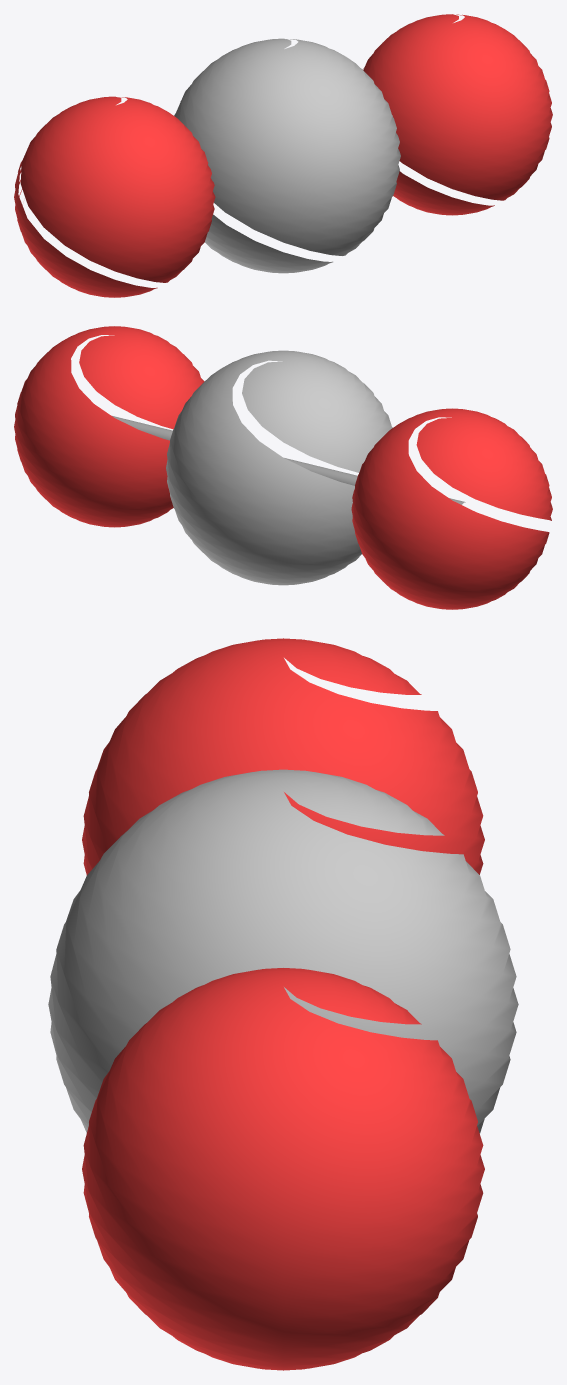
3 views of the same model, one above another, from view 1: azimuth 30°, elevation 25°; view 2: azimuth 150°, elevation 25°; view 3: azimuth 270°, elevation 25° (orthographic). The views are drawn at different scales.
Size of the model in its own units: 3.52 by 1.39 by 1.4.
